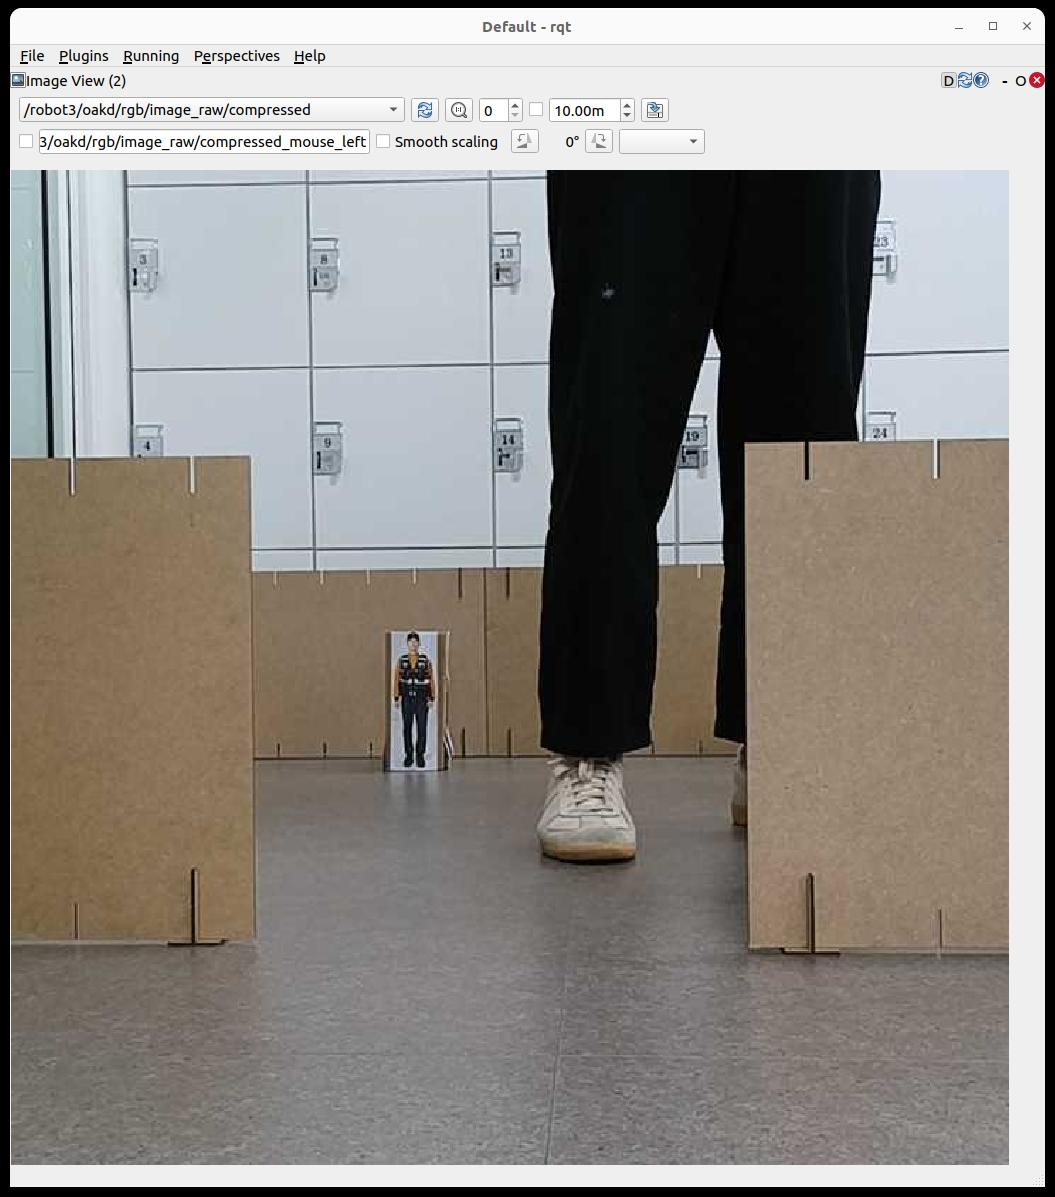Patient: (393, 632, 435, 767)
